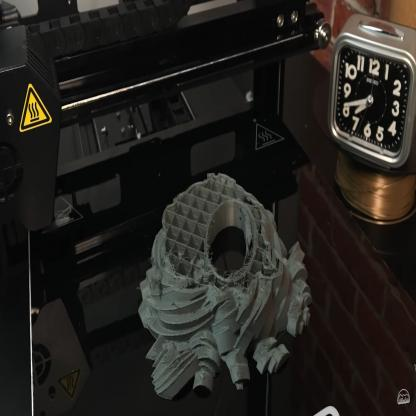fail: (211, 249, 255, 286)
